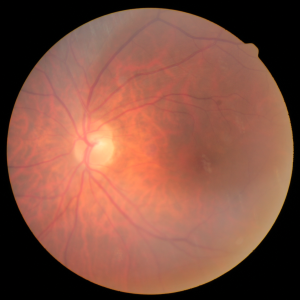retina_disease: (31, 93, 240, 204)
